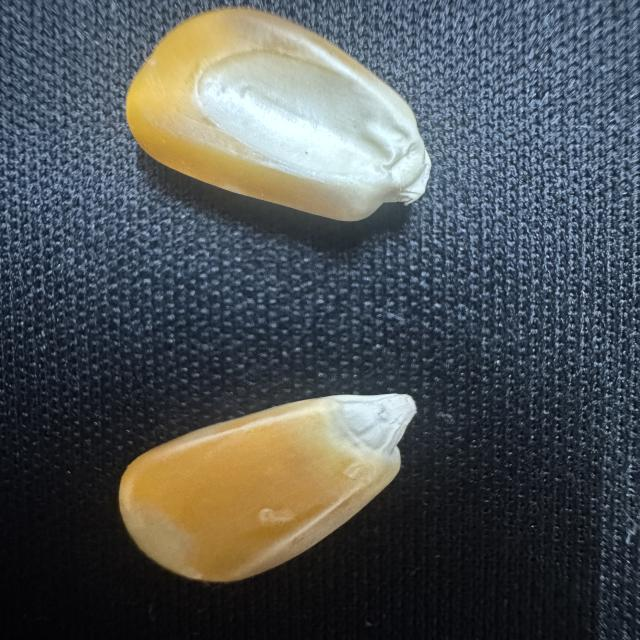Good-Seed: (120, 1, 438, 226), (110, 388, 424, 588)
